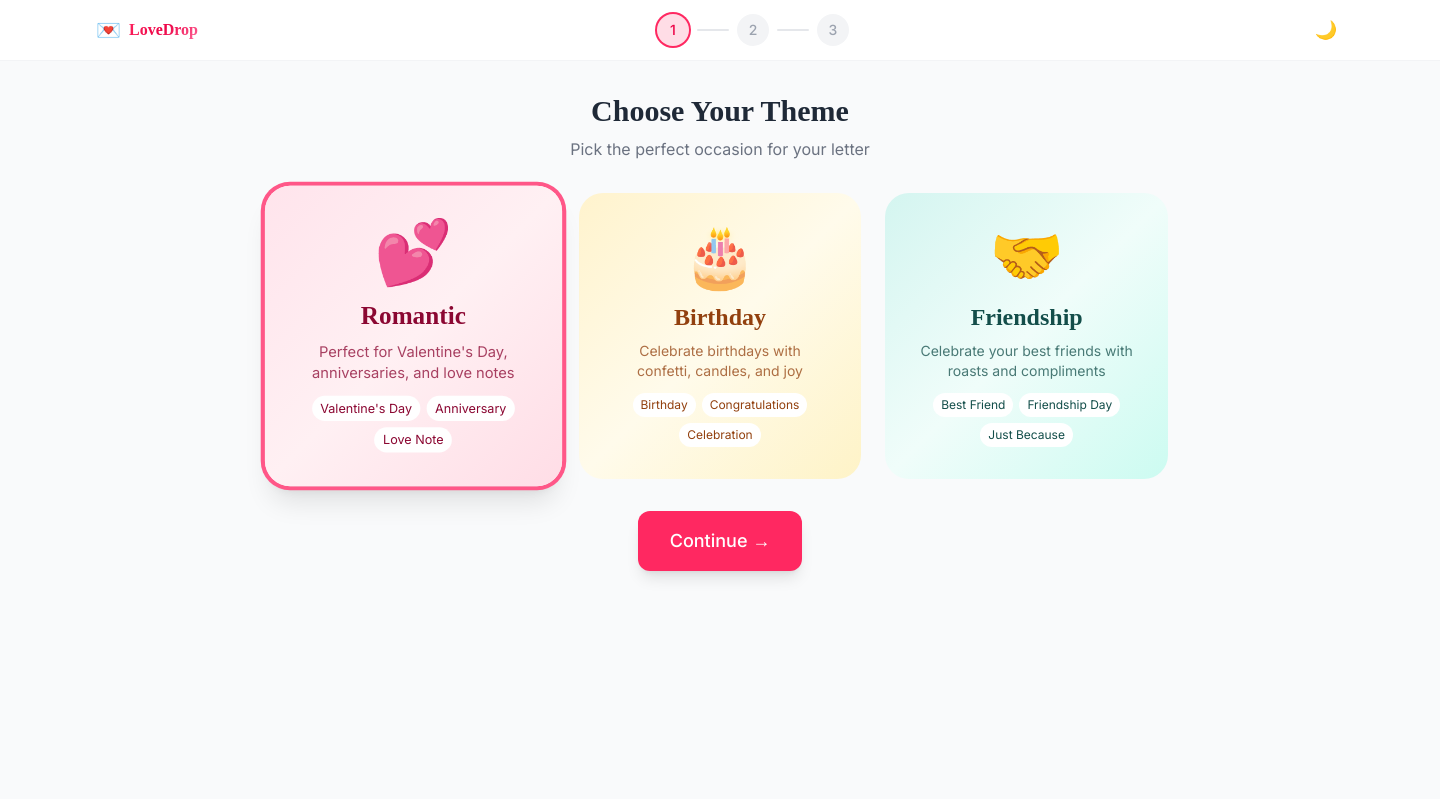
Test: Create flow - Step 1: Theme selection › user can select a theme and continue
Select the Birthday theme card (h3 heading, not the occasion chip)
Click the heading "Birthday". click: {"x": 720, "y": 317}
box: [674,304,766,330]
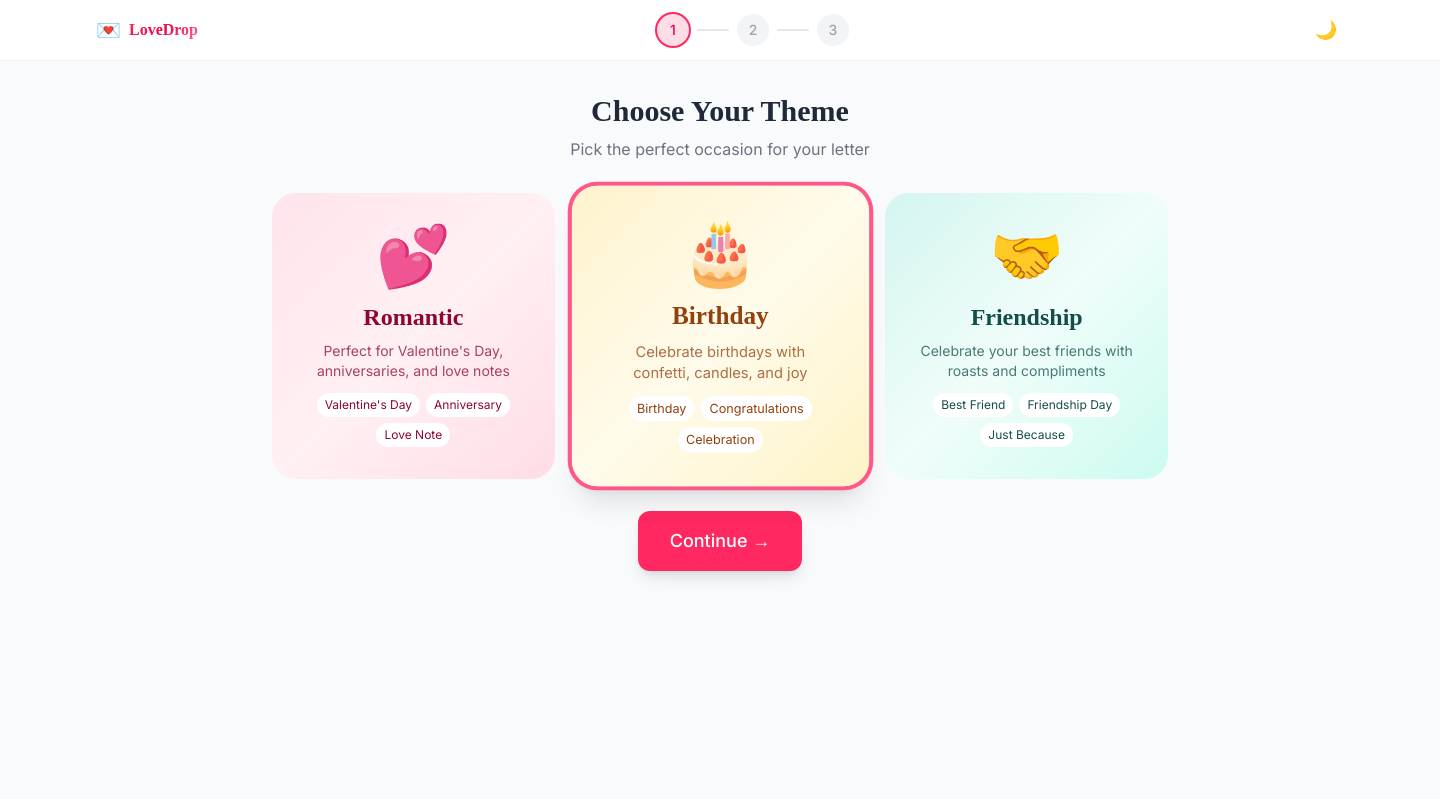
Click the button "Continue →". click: {"x": 720, "y": 541}
box: [638,511,802,571]
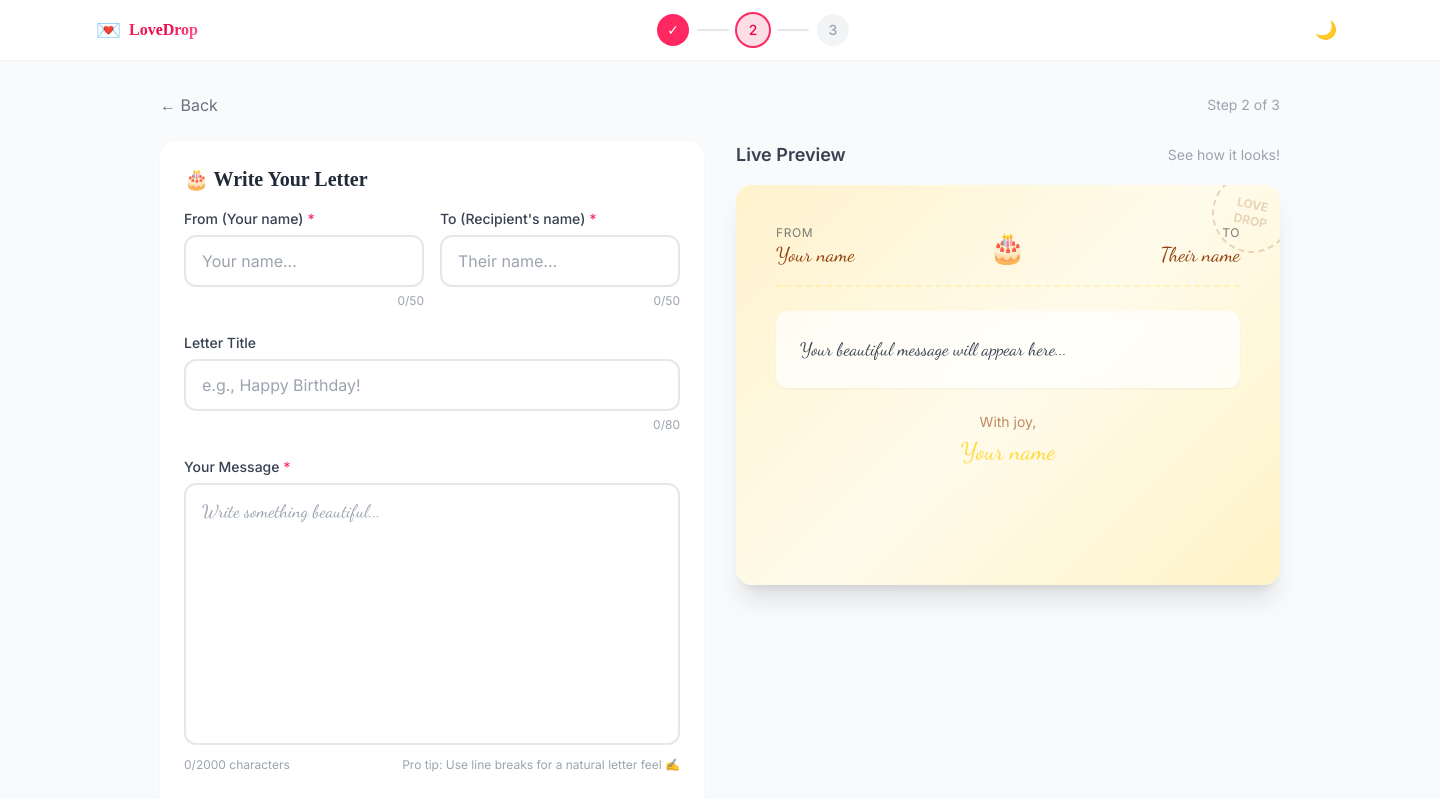
Expected: the heading "🎂 Write Your Letter" is shown, [184,168,368,190]
